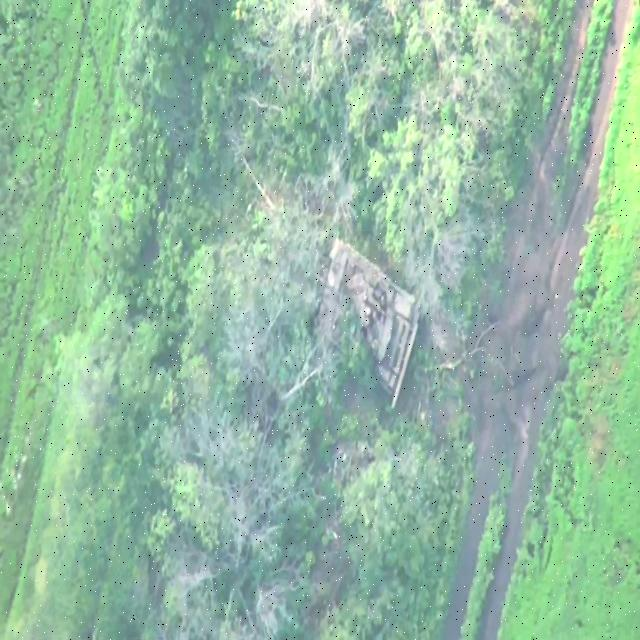MBT: (283, 235, 423, 413)
